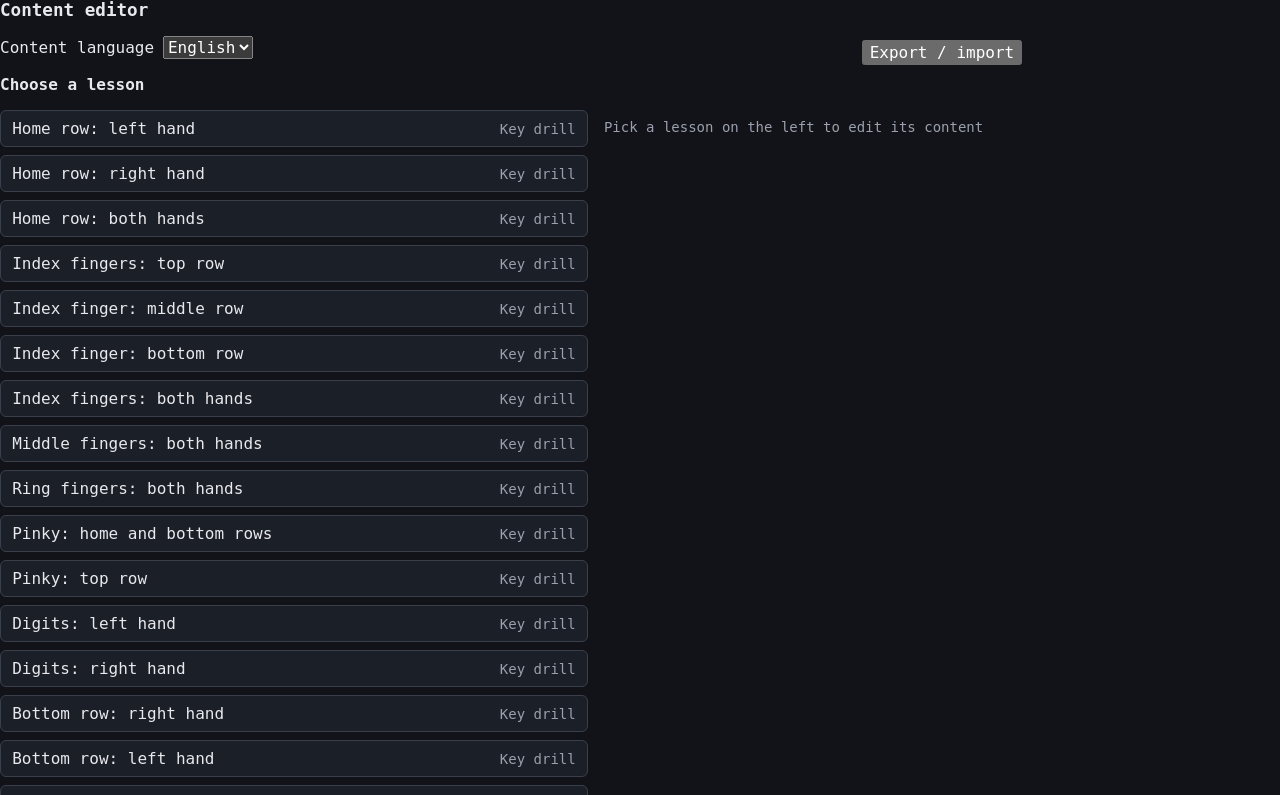
Test case: ContentScreen › opens the export/import dialog with two columns
The width and height of the screenshot is (1280, 795).
Click the button "Export / import": (942, 52) [862,40,1022,65]
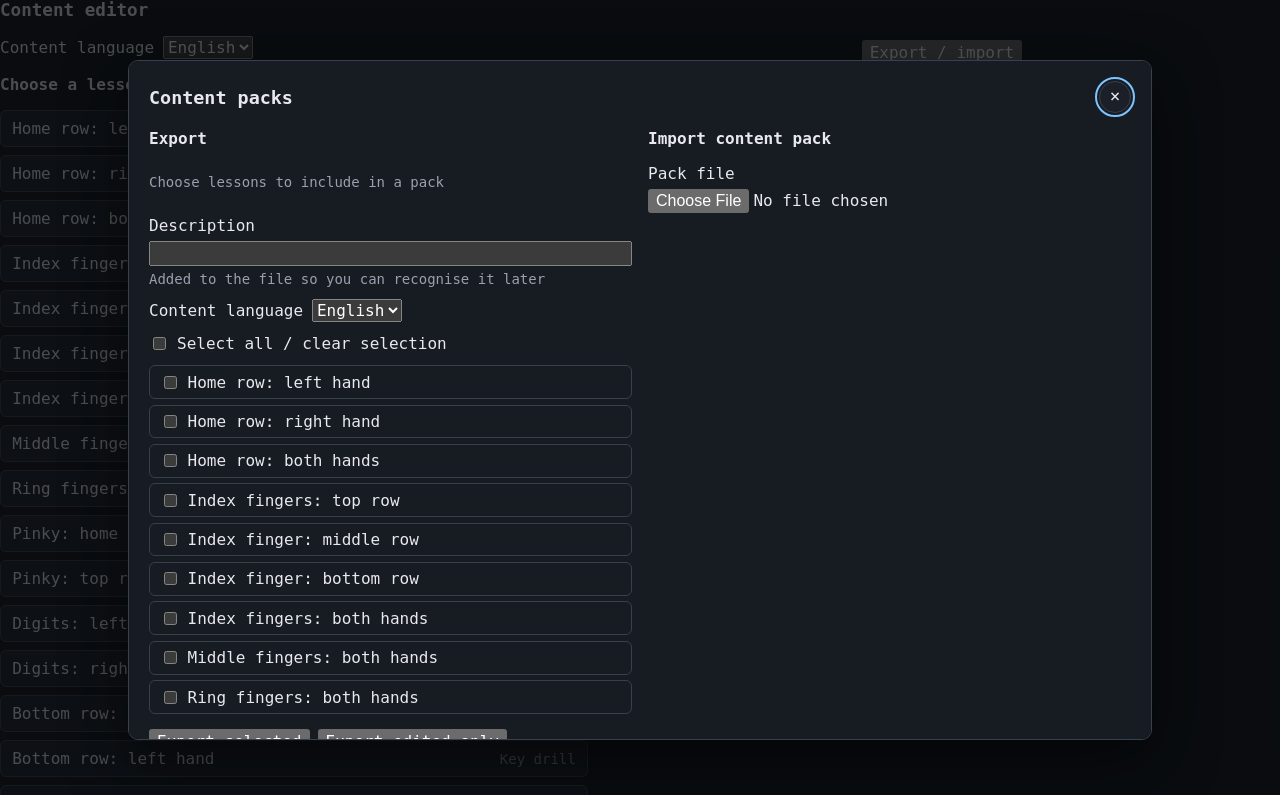
Expected: the dialog is shown
Expected: the number of elements with class "content-dialog-column" is 2, [149,129,632,740]; [648,129,1131,213]
Expected: the element with class "content-import" is shown, [648,129,1131,213]
Click the button with class "content-dialog-close": (1115, 97) [1099,81,1131,113]
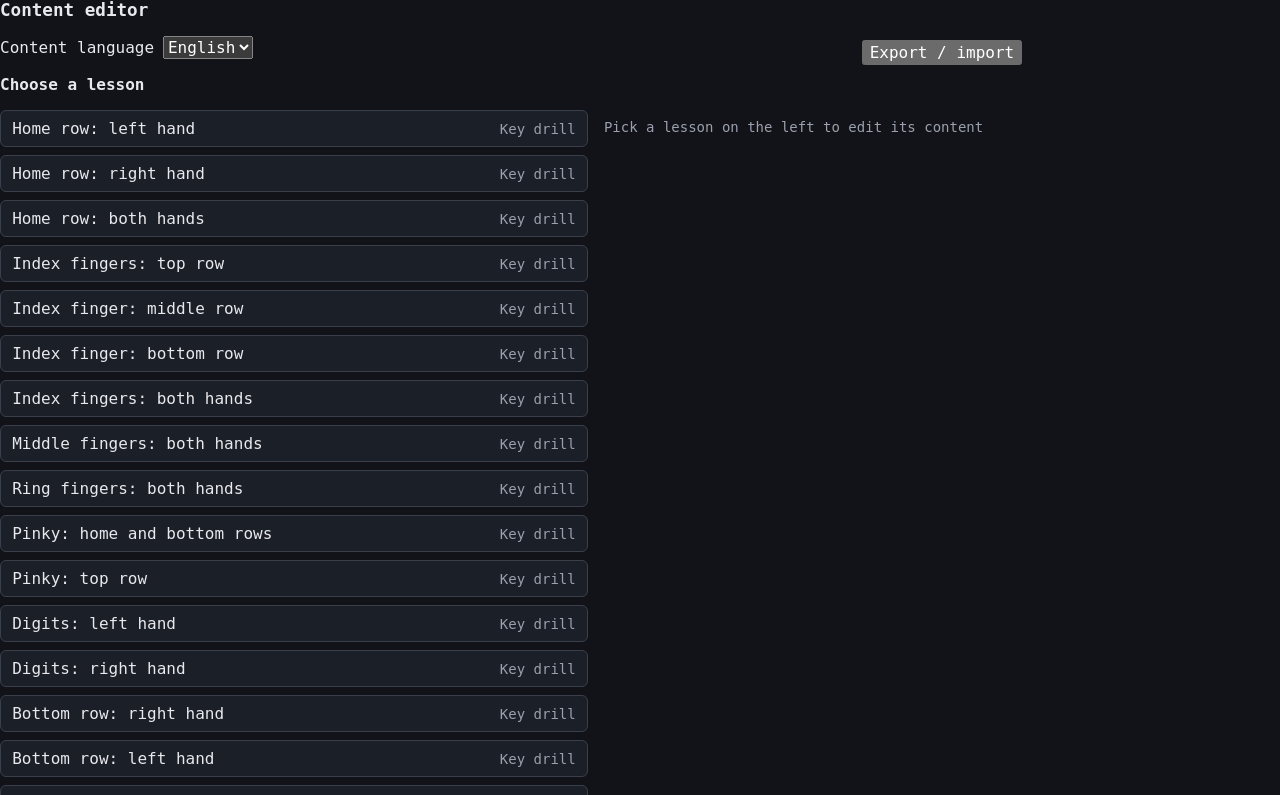
Expected: the dialog is gone
